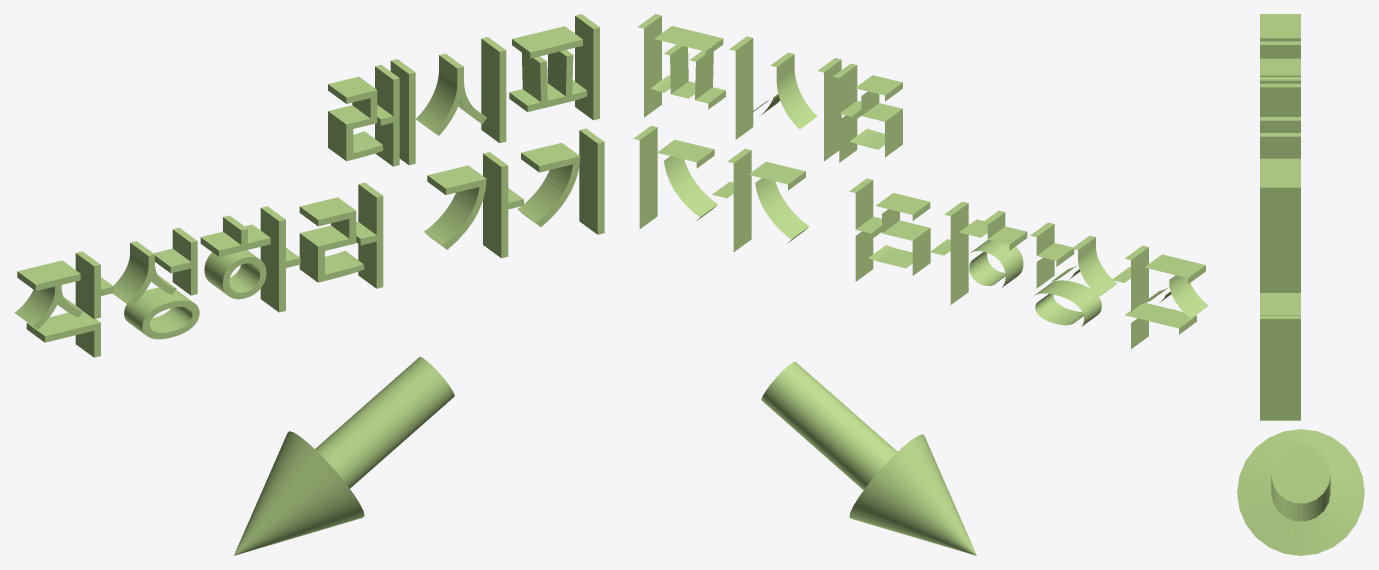
The model's file is recipemovetext.gltf.
3 renders of one model, left to right at view 1: azimuth 30°, elevation 25°; view 2: azimuth 150°, elevation 25°; view 3: azimuth 270°, elevation 25°, orthographic. The views are drawn at different scales.
Parts seen in each view (by area): view 1: Cone001; view 2: Cone001; view 3: Cone001.
Boxes of the visible parts, <box> form: Cone001: <box>14,14,604,555</box>; Cone001: <box>633,14,1208,555</box>; Cone001: <box>1237,14,1364,555</box>.
Size of the model in its own units: 2.36 by 1.8 by 0.4088.
